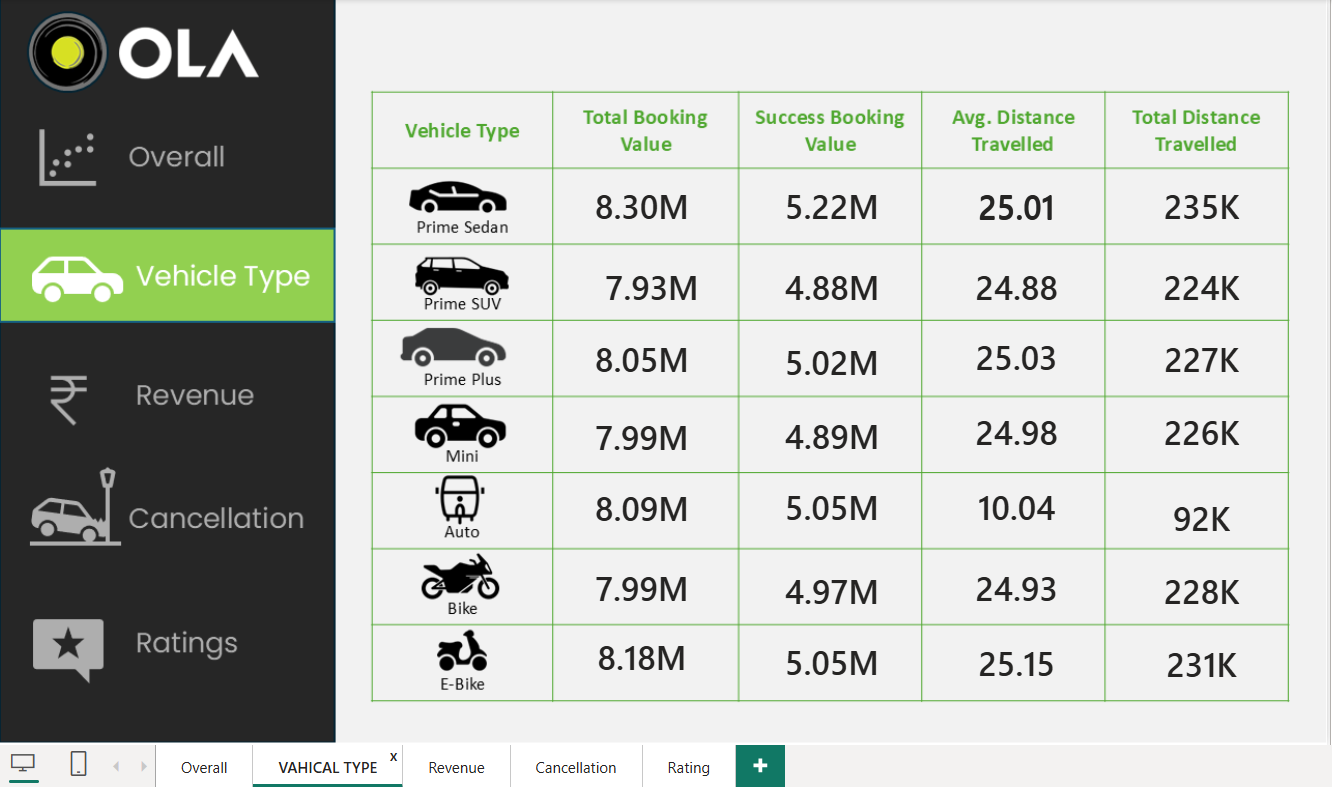

Layout of this report page (visuals, bound fields, positions):
{"tool":"powerbi","page":{"name":"VAHICAL TYPE","canvas":[1280,720],"ordinal":1},"visuals":[{"type":"actionButton","box":[0,220.8,322.1,92.9],"z":0},{"type":"actionButton","box":[0,333,322.1,92.9],"z":1000},{"type":"actionButton","box":[0,453.6,322.1,92.9],"z":2000},{"type":"actionButton","box":[0,581.5,322.1,85.7],"z":3000},{"type":"cardVisual","fields":{"Data":["Sum(ola ola_d.Booking_Value)"]},"box":[718.6,164.3,168.6,67.1],"z":4000},{"type":"cardVisual","fields":{"Data":["Sum(ola ola_d.Booking_Value)"]},"box":[718.6,314.3,168.6,68.6],"z":5000},{"type":"cardVisual","fields":{"Data":["Sum(ola ola_d.Booking_Value)"]},"box":[718.6,242.9,168.6,68.6],"z":6000},{"type":"cardVisual","fields":{"Data":["Sum(ola ola_d.Booking_Value)"]},"box":[718.6,385.7,168.6,68.6],"z":7000},{"type":"cardVisual","fields":{"Data":["Sum(ola ola_d.Booking_Value)"]},"box":[718.6,454.3,168.6,68.6],"z":8000},{"type":"cardVisual","fields":{"Data":["Sum(ola ola_d.Booking_Value)"]},"box":[718.6,535.7,168.6,68.6],"z":9000},{"type":"cardVisual","fields":{"Data":["Sum(ola ola_d.Booking_Value)"]},"box":[718.6,604.3,168.6,68.6],"z":10000},{"type":"cardVisual","fields":{"Data":["Sum(ola ola_d.Booking_Value)"]},"box":[535.7,164.3,168.6,67.1],"z":11000},{"type":"cardVisual","fields":{"Data":["Sum(ola ola_d.Booking_Value)"]},"box":[535.7,387.1,168.6,67.1],"z":12000},{"type":"cardVisual","fields":{"Data":["Sum(ola ola_d.Booking_Value)"]},"box":[535.7,600,168.6,67.1],"z":13000},{"type":"cardVisual","fields":{"Data":["Sum(ola ola_d.Booking_Value)"]},"box":[535.7,455.7,168.6,67.1],"z":14000},{"type":"cardVisual","fields":{"Data":["Sum(ola ola_d.Booking_Value)"]},"box":[535.7,532.9,168.6,67.1],"z":15000},{"type":"cardVisual","fields":{"Data":["Sum(ola ola_d.Booking_Value)"]},"box":[535.7,312.9,168.6,67.1],"z":16000},{"type":"cardVisual","fields":{"Data":["Sum(ola ola_d.Booking_Value)"]},"box":[545.7,242.9,168.6,67.1],"z":17000},{"type":"cardVisual","fields":{"Data":["Avg(ola ola_d.Ride_Distance)"]},"box":[907.1,165.7,148.6,67.1],"z":17001},{"type":"cardVisual","fields":{"Data":["Avg(ola ola_d.Ride_Distance)"]},"box":[907.1,382.9,148.6,67.1],"z":17002},{"type":"cardVisual","fields":{"Data":["Avg(ola ola_d.Ride_Distance)"]},"box":[907.1,454.3,148.6,67.1],"z":17003},{"type":"cardVisual","fields":{"Data":["Avg(ola ola_d.Ride_Distance)"]},"box":[907.1,532.9,148.6,67.1],"z":17004},{"type":"cardVisual","fields":{"Data":["Avg(ola ola_d.Ride_Distance)"]},"box":[907.1,605.7,148.6,67.1],"z":17005},{"type":"cardVisual","fields":{"Data":["Avg(ola ola_d.Ride_Distance)"]},"box":[907.1,164.3,148.6,67.1],"z":17006},{"type":"cardVisual","fields":{"Data":["Avg(ola ola_d.Ride_Distance)"]},"box":[907.1,244.3,148.6,65.7],"z":17007},{"type":"cardVisual","fields":{"Data":["Avg(ola ola_d.Ride_Distance)"]},"box":[907.1,310,148.6,67.1],"z":17008},{"type":"cardVisual","fields":{"Data":["Sum(ola ola_d.Ride_Distance)"]},"box":[1085.7,242.9,148.6,67.1],"z":17009},{"type":"cardVisual","fields":{"Data":["Sum(ola ola_d.Ride_Distance)"]},"box":[1085.7,312.9,148.6,67.1],"z":17010},{"type":"cardVisual","fields":{"Data":["Sum(ola ola_d.Ride_Distance)"]},"box":[1085.7,465.7,148.6,67.1],"z":17011},{"type":"cardVisual","fields":{"Data":["Sum(ola ola_d.Ride_Distance)"]},"box":[1085.7,535.7,148.6,67.1],"z":17012},{"type":"cardVisual","fields":{"Data":["Sum(ola ola_d.Ride_Distance)"]},"box":[1085.7,607.1,148.6,67.1],"z":17013},{"type":"cardVisual","fields":{"Data":["Sum(ola ola_d.Ride_Distance)"]},"box":[1085.7,164.3,148.6,67.1],"z":17014},{"type":"cardVisual","fields":{"Data":["Sum(ola ola_d.Ride_Distance)"]},"box":[1085.7,382.9,148.6,67.1],"z":17015}]}

Visuals, with their boxes on the page's 1280x720 design canvas (x1, y1, x2, y2). These are canvas units, not pixel positions in the 1332x787 screenshot, which may show the page scaled, cropped or inside an application window:
actionButton: Rect(0, 221, 322, 314)
actionButton: Rect(0, 333, 322, 426)
actionButton: Rect(0, 454, 322, 546)
actionButton: Rect(0, 582, 322, 667)
cardVisual - Sum(ola ola_d.Booking_Value): Rect(719, 164, 887, 231)
cardVisual - Sum(ola ola_d.Booking_Value): Rect(719, 314, 887, 383)
cardVisual - Sum(ola ola_d.Booking_Value): Rect(719, 243, 887, 312)
cardVisual - Sum(ola ola_d.Booking_Value): Rect(719, 386, 887, 454)
cardVisual - Sum(ola ola_d.Booking_Value): Rect(719, 454, 887, 523)
cardVisual - Sum(ola ola_d.Booking_Value): Rect(719, 536, 887, 604)
cardVisual - Sum(ola ola_d.Booking_Value): Rect(719, 604, 887, 673)
cardVisual - Sum(ola ola_d.Booking_Value): Rect(536, 164, 704, 231)
cardVisual - Sum(ola ola_d.Booking_Value): Rect(536, 387, 704, 454)
cardVisual - Sum(ola ola_d.Booking_Value): Rect(536, 600, 704, 667)
cardVisual - Sum(ola ola_d.Booking_Value): Rect(536, 456, 704, 523)
cardVisual - Sum(ola ola_d.Booking_Value): Rect(536, 533, 704, 600)
cardVisual - Sum(ola ola_d.Booking_Value): Rect(536, 313, 704, 380)
cardVisual - Sum(ola ola_d.Booking_Value): Rect(546, 243, 714, 310)
cardVisual - Avg(ola ola_d.Ride_Distance): Rect(907, 166, 1056, 233)
cardVisual - Avg(ola ola_d.Ride_Distance): Rect(907, 383, 1056, 450)
cardVisual - Avg(ola ola_d.Ride_Distance): Rect(907, 454, 1056, 521)
cardVisual - Avg(ola ola_d.Ride_Distance): Rect(907, 533, 1056, 600)
cardVisual - Avg(ola ola_d.Ride_Distance): Rect(907, 606, 1056, 673)
cardVisual - Avg(ola ola_d.Ride_Distance): Rect(907, 164, 1056, 231)
cardVisual - Avg(ola ola_d.Ride_Distance): Rect(907, 244, 1056, 310)
cardVisual - Avg(ola ola_d.Ride_Distance): Rect(907, 310, 1056, 377)
cardVisual - Sum(ola ola_d.Ride_Distance): Rect(1086, 243, 1234, 310)
cardVisual - Sum(ola ola_d.Ride_Distance): Rect(1086, 313, 1234, 380)
cardVisual - Sum(ola ola_d.Ride_Distance): Rect(1086, 466, 1234, 533)
cardVisual - Sum(ola ola_d.Ride_Distance): Rect(1086, 536, 1234, 603)
cardVisual - Sum(ola ola_d.Ride_Distance): Rect(1086, 607, 1234, 674)
cardVisual - Sum(ola ola_d.Ride_Distance): Rect(1086, 164, 1234, 231)
cardVisual - Sum(ola ola_d.Ride_Distance): Rect(1086, 383, 1234, 450)
